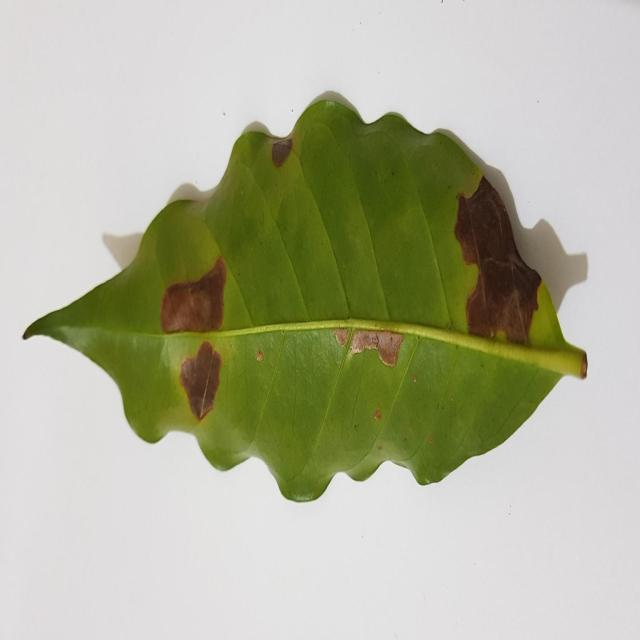Plaga-Minador: (23, 92, 588, 506)
